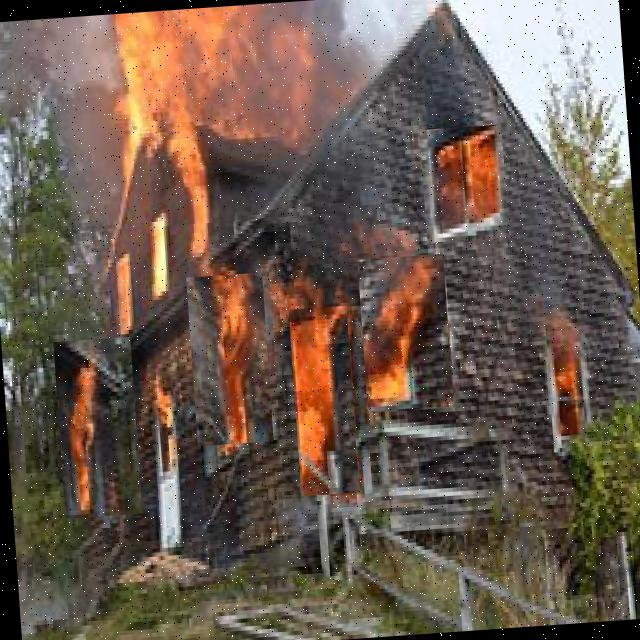fire: (61, 0, 328, 231), (53, 336, 142, 518), (185, 272, 274, 446), (357, 253, 453, 412), (288, 305, 359, 496), (419, 124, 509, 243), (541, 324, 597, 436)
